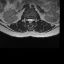CCS_normal: (29, 17, 30, 24)
LFS_normal: (33, 17, 35, 22)
LLS_normal: (30, 16, 33, 23)
RFS_normal: (25, 17, 27, 22)
RLS_normal: (27, 17, 29, 23)
